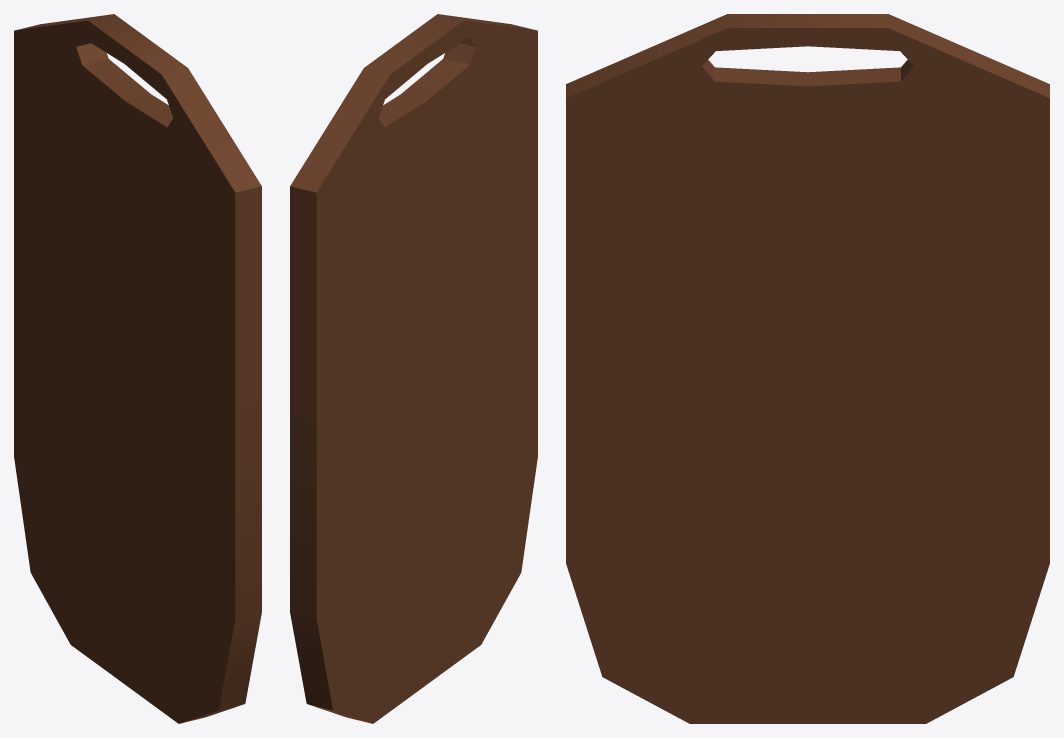
File: Дощечка.fbx
The picture shows the model from 3 angles, left to right: view 1: azimuth 30°, elevation 25°; view 2: azimuth 150°, elevation 25°; view 3: azimuth 270°, elevation 25°; orthographic projection. The views are drawn at different scales.
Visible parts, largest first — view 1: Cube; view 2: Cube; view 3: Cube.
Boxes of the visible parts, <box> form: Cube: <box>14,14,261,723</box>; Cube: <box>290,14,537,723</box>; Cube: <box>566,14,1049,723</box>.
Size of the model in its own units: 9.68 by 222 by 140.
